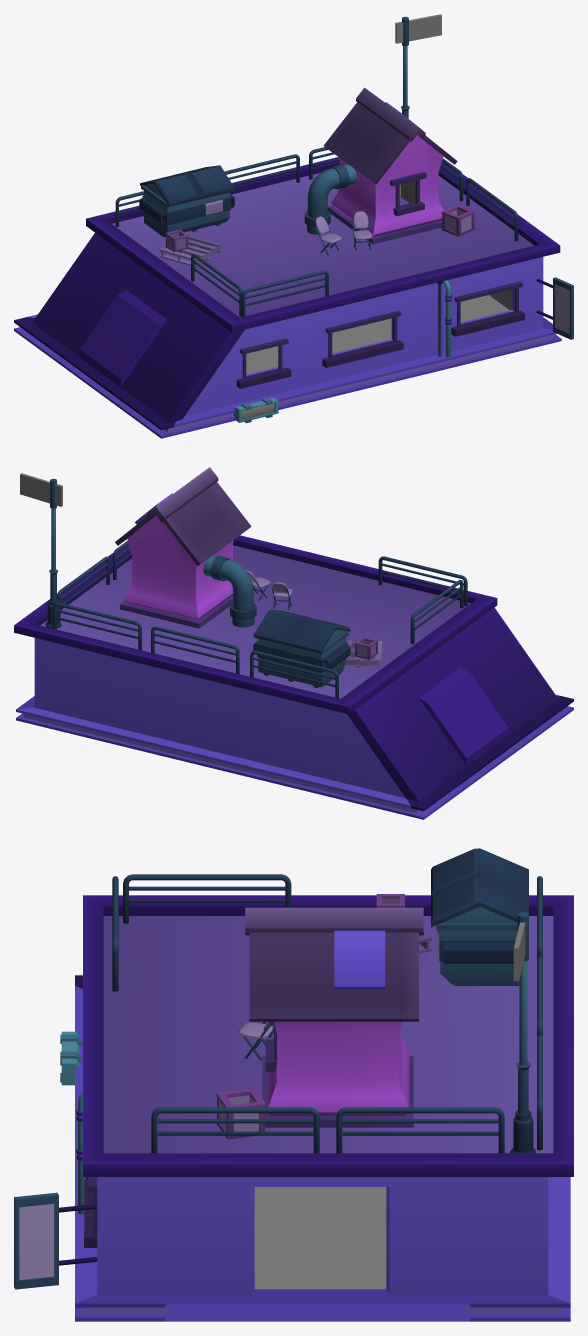
Rendered from scene_building_main_top.obj.
3 renders of one model, top to bottom at view 1: azimuth 30°, elevation 25°; view 2: azimuth 150°, elevation 25°; view 3: azimuth 270°, elevation 25°, orthographic. The views are drawn at different scales.
Visible parts, largest first — view 1: building_main_top, textureEditorIsolateSelectSet building_main_top; view 2: building_main_top; view 3: building_main_top, textureEditorIsolateSelectSet building_main_top.
Boxes of the visible parts, x1,y1,x2,y2 form: building_main_top: (14,14,573,438); textureEditorIsolateSelectSet building_main_top: (174,305,553,424); building_main_top: (14,467,573,819); building_main_top: (14,848,573,1321); textureEditorIsolateSelectSet building_main_top: (75,985,250,1303).
Size of the model in its own units: 1696 by 914 by 1189.
Materials: 2 (1 with a texture image).
